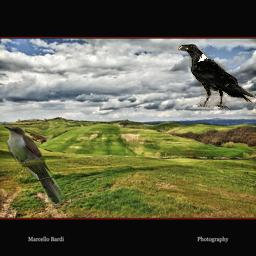Crow: (178, 44, 256, 110)
Cuckoo: (2, 124, 65, 206)
